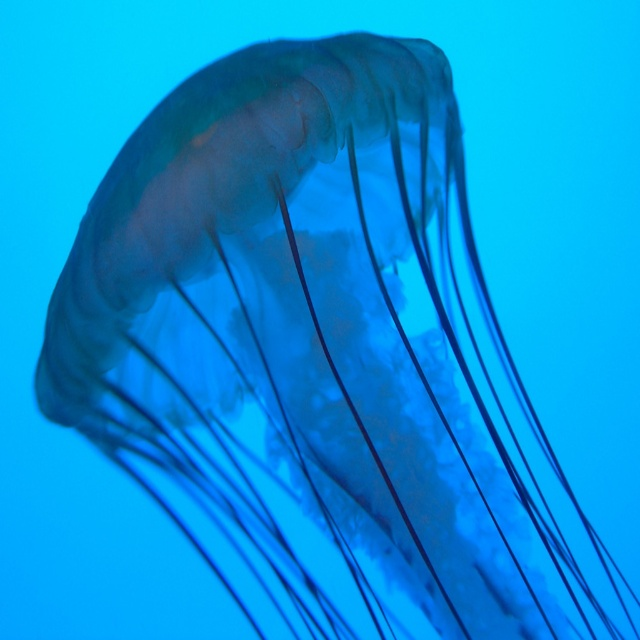Jellyfish: (46, 21, 634, 640)
